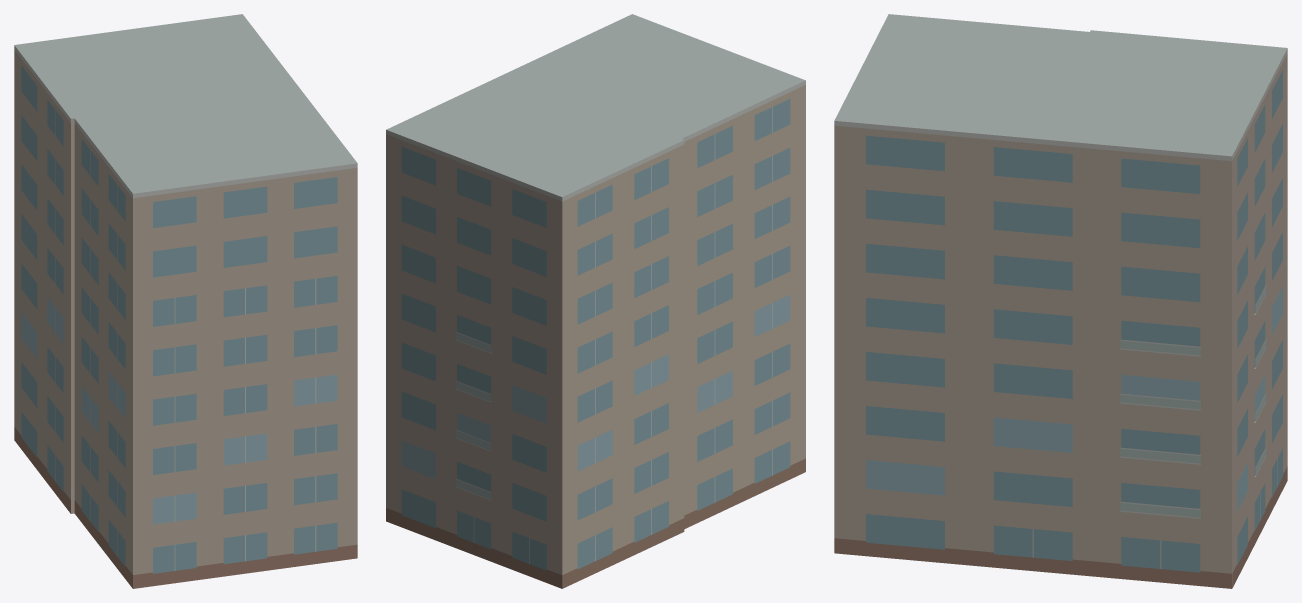
The model's file is survey-upis-32653326.glb.
3 renders of one model, left to right at view 1: azimuth 30°, elevation 25°; view 2: azimuth 150°, elevation 25°; view 3: azimuth 270°, elevation 25°, orthographic. The views are drawn at different scales.
Parts seen in each view (by area): view 1: survey-upis-32653326.tmp; view 2: survey-upis-32653326.tmp; view 3: survey-upis-32653326.tmp.
Boxes of the visible parts, x1,y1,x2,y2 form: survey-upis-32653326.tmp: (14, 14, 357, 588); survey-upis-32653326.tmp: (386, 14, 805, 588); survey-upis-32653326.tmp: (834, 14, 1287, 588).
Size of the model in its own units: 15.4 by 21.8 by 20.72.
